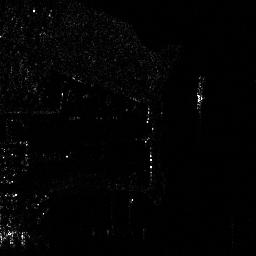ship: (194, 74, 205, 110)
